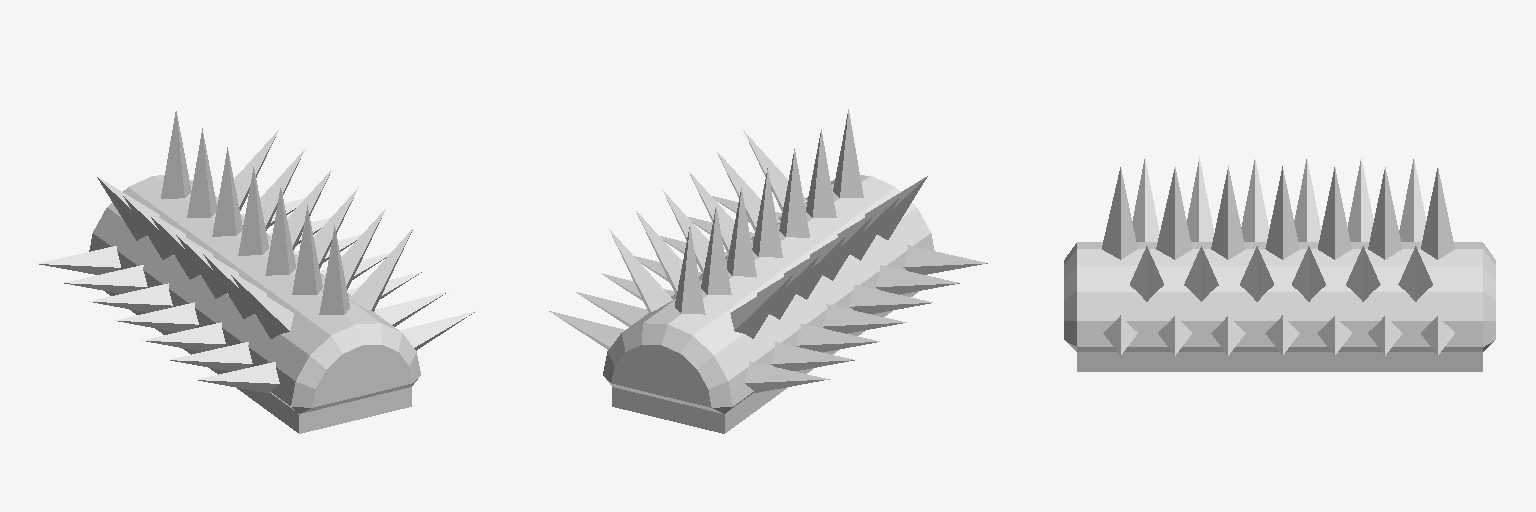
File: cmn_obj_thornscB_SD.obj
3 views of the same model, side by side, from view 1: azimuth 30°, elevation 25°; view 2: azimuth 150°, elevation 25°; view 3: azimuth 270°, elevation 25° (orthographic).
Visible parts, largest first — view 1: polygon1, polygon2, polygon0; view 2: polygon1, polygon2, polygon0; view 3: polygon1, polygon2.
Boxes of the visible parts, x1=… form: polygon1: x1=38, y1=111, x2=475, y2=433; polygon2: x1=89, y1=175, x2=401, y2=413; polygon0: x1=312, y1=345, x2=412, y2=407; polygon1: x1=549, y1=109, x2=987, y2=433; polygon2: x1=622, y1=175, x2=934, y2=413; polygon0: x1=611, y1=345, x2=711, y2=407; polygon1: x1=1064, y1=157, x2=1495, y2=371; polygon2: x1=1077, y1=242, x2=1482, y2=351.
Bounding box in the file's own units: 22.62 × 13.77 × 29.99.